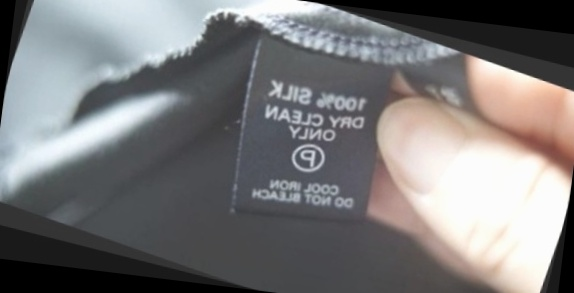dry_clean_any_solvent_except_trichloroethylene: (282, 133, 333, 181)
